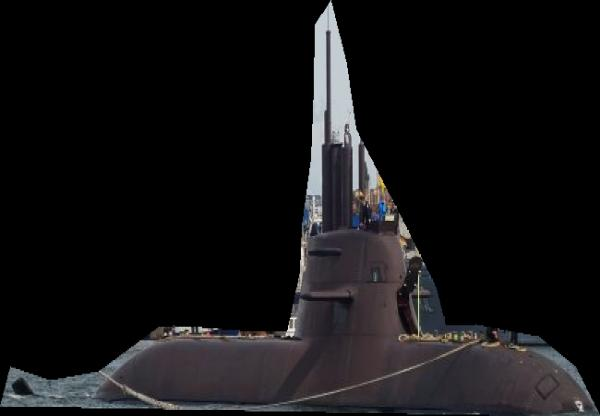Submarine: (0, 0, 600, 416)
